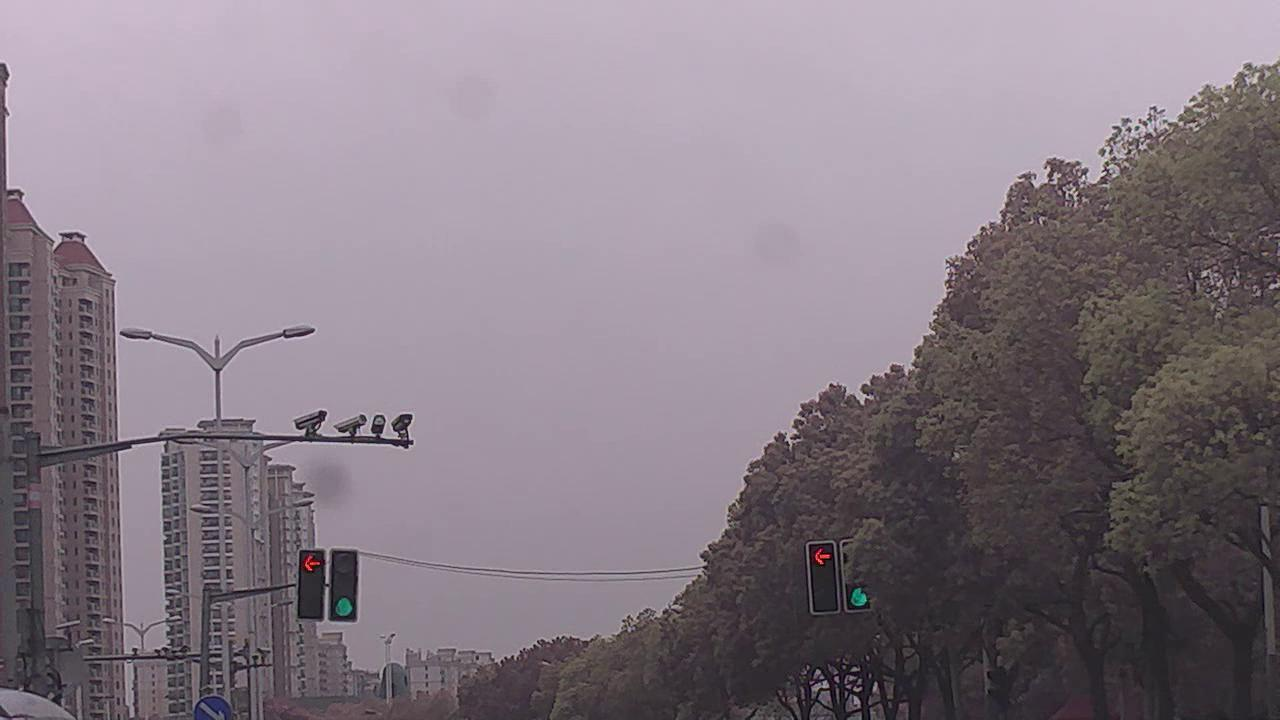traffic_light: (804, 545, 841, 613), (840, 541, 872, 611), (333, 548, 359, 622), (297, 545, 324, 614)
